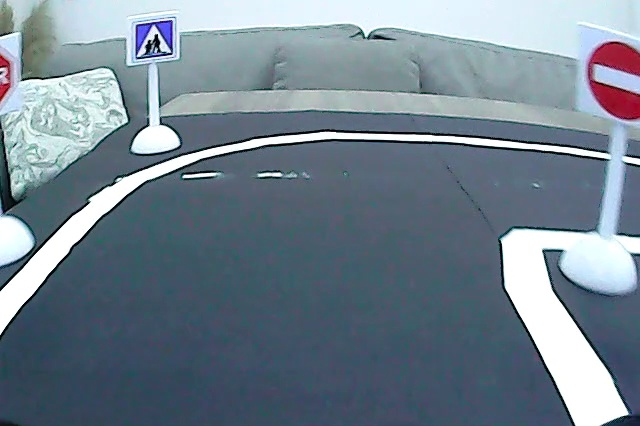do not enter: (582, 36, 640, 126)
school crossing: (131, 17, 176, 63)
